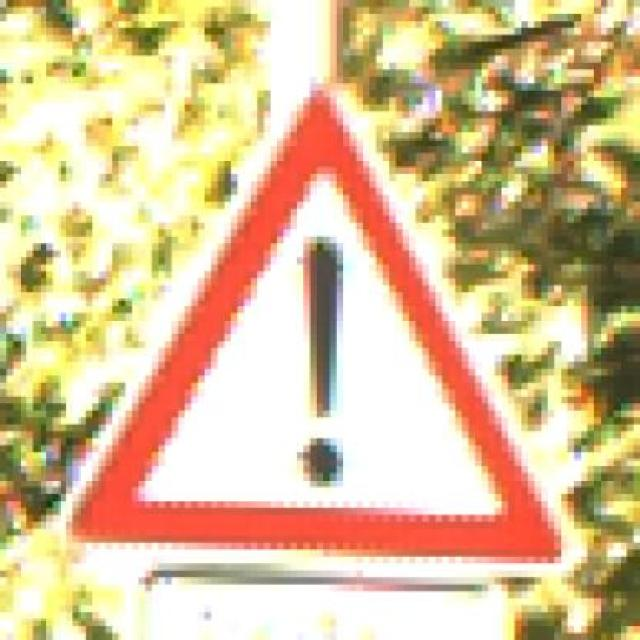Attention Please-: (52, 42, 594, 590)
